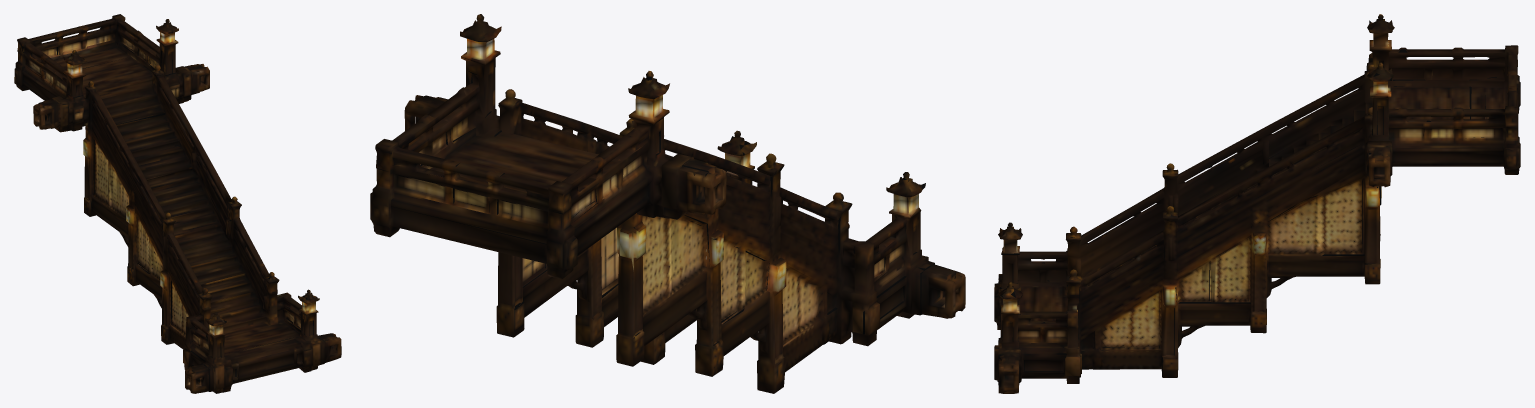
File: Stares_LOD2.fbx
3 views of the same model, side by side, from view 1: azimuth 30°, elevation 25°; view 2: azimuth 150°, elevation 25°; view 3: azimuth 270°, elevation 25° (orthographic). The views are drawn at different scales.
Parts seen in each view (by area): view 1: node_0.001; view 2: node_0.001; view 3: node_0.001.
Part boxes in pixels (left/top/right/bottom): node_0.001: left=14, top=14, right=341, bottom=393; node_0.001: left=370, top=14, right=965, bottom=393; node_0.001: left=994, top=14, right=1520, bottom=393.
Size of the model in its own units: 46.78 by 64.84 by 96.32.
1 material, 1 textured.
